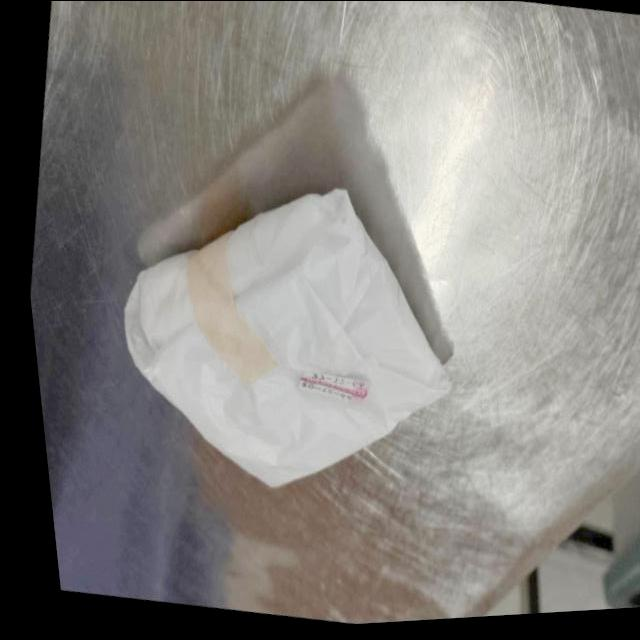General: (27, 1, 638, 622)
Infectious: (121, 185, 452, 487)
Sharps: (296, 368, 370, 401)
